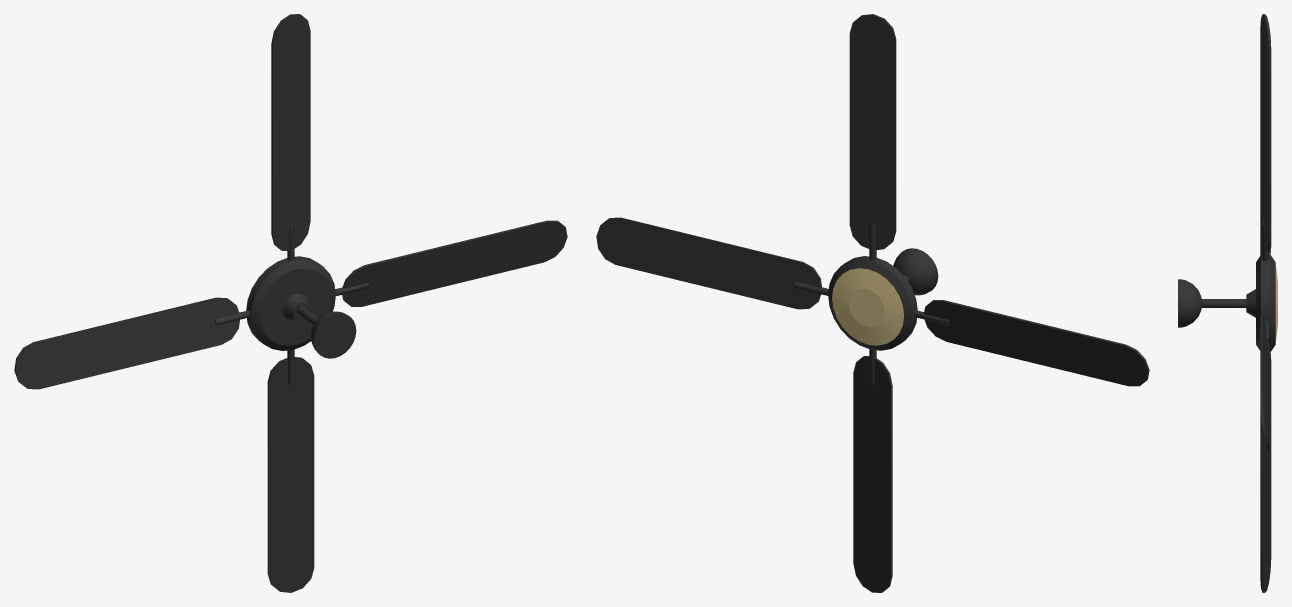
The model's file is Ceiling+fan.fbx.
3 renders of one model, left to right at view 1: azimuth 30°, elevation 25°; view 2: azimuth 150°, elevation 25°; view 3: azimuth 270°, elevation 25°, orthographic.
Parts seen in each view (by area): view 1: fa2a19d6_16d0_4065_bb34_17bcd00e4ce3_275, fa2a19d6_16d0_4065_bb34_17bcd00e4ce3_273, fa2a19d6_16d0_4065_bb34_17bcd00e4ce3_271, fa2a19d6_16d0_4065_bb34_17bcd00e4ce3_269, fa2a19d6_16d0_4065_bb34_17bcd00e4ce3_266, fa2a19d6_16d0_4065_bb34_17bcd00e4ce3_263; view 2: fa2a19d6_16d0_4065_bb34_17bcd00e4ce3_271, fa2a19d6_16d0_4065_bb34_17bcd00e4ce3_269, fa2a19d6_16d0_4065_bb34_17bcd00e4ce3_273, fa2a19d6_16d0_4065_bb34_17bcd00e4ce3_275, fa2a19d6_16d0_4065_bb34_17bcd00e4ce3_265, fa2a19d6_16d0_4065_bb34_17bcd00e4ce3_266, fa2a19d6_16d0_4065_bb34_17bcd00e4ce3_264; view 3: fa2a19d6_16d0_4065_bb34_17bcd00e4ce3_271, fa2a19d6_16d0_4065_bb34_17bcd00e4ce3_275, fa2a19d6_16d0_4065_bb34_17bcd00e4ce3_266, fa2a19d6_16d0_4065_bb34_17bcd00e4ce3_269, fa2a19d6_16d0_4065_bb34_17bcd00e4ce3_264, fa2a19d6_16d0_4065_bb34_17bcd00e4ce3_261, fa2a19d6_16d0_4065_bb34_17bcd00e4ce3_267, fa2a19d6_16d0_4065_bb34_17bcd00e4ce3_265, fa2a19d6_16d0_4065_bb34_17bcd00e4ce3_270.
Part boxes in pixels (x1,y1,x2,y2): fa2a19d6_16d0_4065_bb34_17bcd00e4ce3_275: (267,357,314,592); fa2a19d6_16d0_4065_bb34_17bcd00e4ce3_273: (14,297,239,389); fa2a19d6_16d0_4065_bb34_17bcd00e4ce3_271: (271,14,310,250); fa2a19d6_16d0_4065_bb34_17bcd00e4ce3_269: (342,220,567,306); fa2a19d6_16d0_4065_bb34_17bcd00e4ce3_266: (246,256,335,350); fa2a19d6_16d0_4065_bb34_17bcd00e4ce3_263: (314,313,356,358); fa2a19d6_16d0_4065_bb34_17bcd00e4ce3_271: (849,14,896,249); fa2a19d6_16d0_4065_bb34_17bcd00e4ce3_269: (596,217,821,309); fa2a19d6_16d0_4065_bb34_17bcd00e4ce3_273: (924,300,1149,386); fa2a19d6_16d0_4065_bb34_17bcd00e4ce3_275: (853,356,892,592); fa2a19d6_16d0_4065_bb34_17bcd00e4ce3_265: (832,268,903,345); fa2a19d6_16d0_4065_bb34_17bcd00e4ce3_266: (828,256,917,350); fa2a19d6_16d0_4065_bb34_17bcd00e4ce3_264: (893,248,938,295); fa2a19d6_16d0_4065_bb34_17bcd00e4ce3_271: (1260,14,1271,252); fa2a19d6_16d0_4065_bb34_17bcd00e4ce3_275: (1260,408,1271,592); fa2a19d6_16d0_4065_bb34_17bcd00e4ce3_266: (1256,255,1275,351); fa2a19d6_16d0_4065_bb34_17bcd00e4ce3_269: (1260,314,1271,451); fa2a19d6_16d0_4065_bb34_17bcd00e4ce3_264: (1178,279,1201,327); fa2a19d6_16d0_4065_bb34_17bcd00e4ce3_261: (1201,299,1246,307); fa2a19d6_16d0_4065_bb34_17bcd00e4ce3_267: (1246,289,1255,317); fa2a19d6_16d0_4065_bb34_17bcd00e4ce3_265: (1275,265,1277,341); fa2a19d6_16d0_4065_bb34_17bcd00e4ce3_270: (1262,222,1269,261).
Bounding box in the file's own units: 51.18 × 51.18 × 8.07.
